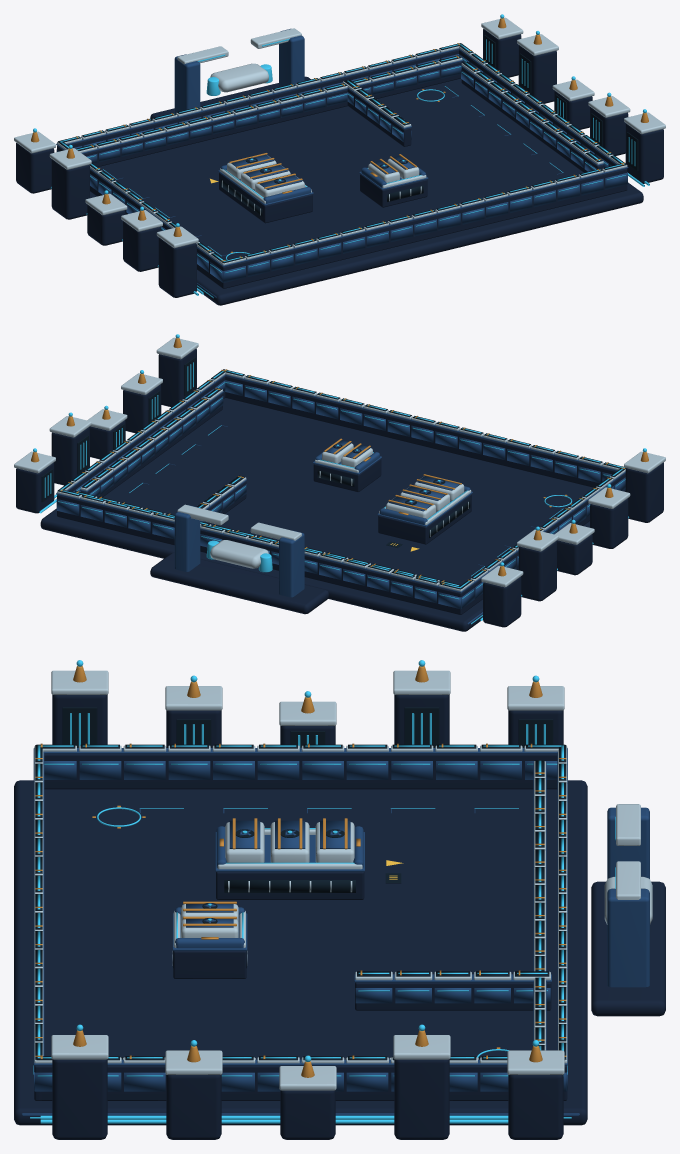
Rendered from dock.glb.
3 views of the same model, one above another, from view 1: azimuth 30°, elevation 25°; view 2: azimuth 150°, elevation 25°; view 3: azimuth 270°, elevation 25° (orthographic). The views are drawn at different scales.
Parts seen in each view (by area): view 1: Raised orbital deck, SOLID 1 border, SOLID 7 reflector, SOLID 0 border, Exterior dock pylon.004, Exterior dock pylon.001, Exterior dock pylon.009, Exterior dock pylon, Exterior dock pylon.003, SOLID 4 cover, Exterior dock pylon.006, Orbital docking tower (+27 smaller); view 2: Raised orbital deck, SOLID 1 border, Horizon installation platform, SOLID 0 border, Exterior dock pylon.004, Exterior dock pylon.001, Exterior dock pylon, Exterior dock pylon.003, Orbital docking tower, Orbital docking tower.001, SOLID 4 cover, Exterior dock pylon.006 (+24 smaller); view 3: Raised orbital deck, SOLID 2 border, Horizon installation platform, SOLID 3 border, Exterior dock pylon.009, Exterior dock pylon.006, Orbital docking tower.001, Exterior dock pylon.008, Exterior dock pylon.005, SOLID 6 cover, Exterior dock pylon.007, SOLID 4 cover (+47 smaller).
Boxes of the visible parts, box(x1,y1,x2,y2) form: Raised orbital deck: box(90, 78, 643, 305); SOLID 1 border: box(221, 168, 626, 288); SOLID 7 reflector: box(83, 61, 462, 166); SOLID 0 border: box(57, 49, 458, 149); Exterior dock pylon.004: box(158, 237, 196, 297); Exterior dock pylon.001: box(51, 159, 89, 219); Exterior dock pylon.009: box(625, 123, 663, 183); Exterior dock pylon: box(16, 143, 54, 193); Exterior dock pylon.003: box(123, 221, 161, 271); SOLID 4 cover: box(219, 173, 312, 223); Exterior dock pylon.006: box(518, 45, 556, 103); Orbital docking tower: box(174, 54, 200, 113); Raised orbital deck: box(40, 398, 592, 631); SOLID 1 border: box(225, 376, 616, 487); Horizon installation platform: box(150, 553, 328, 614); SOLID 0 border: box(57, 495, 463, 614); Exterior dock pylon.004: box(625, 462, 663, 522); Exterior dock pylon.001: box(518, 541, 556, 601); Exterior dock pylon: box(483, 577, 521, 627); Exterior dock pylon.003: box(590, 498, 628, 548); Orbital docking tower: box(279, 530, 304, 597); Orbital docking tower.001: box(174, 505, 200, 571); SOLID 4 cover: box(378, 494, 471, 544); Exterior dock pylon.006: box(51, 427, 89, 485); Raised orbital deck: box(14, 780, 587, 1125); SOLID 2 border: box(44, 754, 557, 789); Horizon installation platform: box(591, 881, 665, 1016); SOLID 3 border: box(34, 1065, 567, 1100); Exterior dock pylon.009: box(52, 1059, 107, 1139); Exterior dock pylon.006: box(394, 1059, 449, 1139); Orbital docking tower.001: box(607, 888, 649, 987); Exterior dock pylon.008: box(166, 1074, 221, 1139); Exterior dock pylon.005: box(508, 1074, 563, 1139); SOLID 6 cover: box(355, 982, 551, 1010); Exterior dock pylon.007: box(280, 1090, 335, 1139); SOLID 4 cover: box(216, 872, 364, 899).
Bounding box in the file's own units: 25.51 × 3.69 × 18.3.
